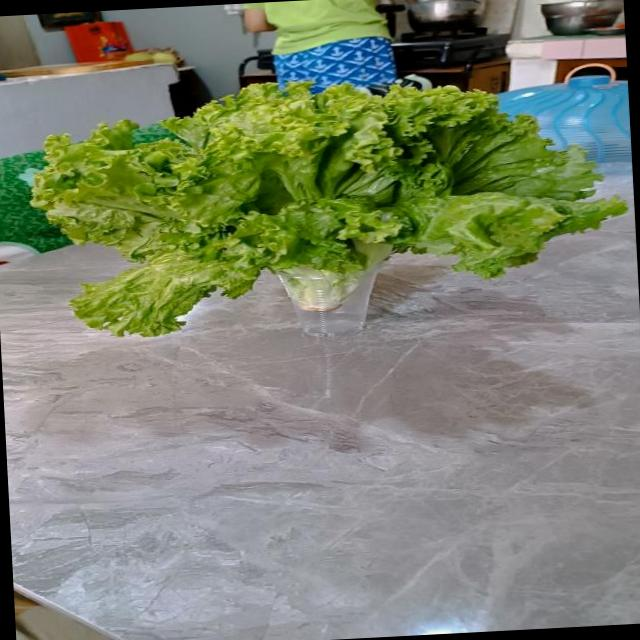Lettuce-Ready-to-Harvest: (32, 84, 627, 336)
